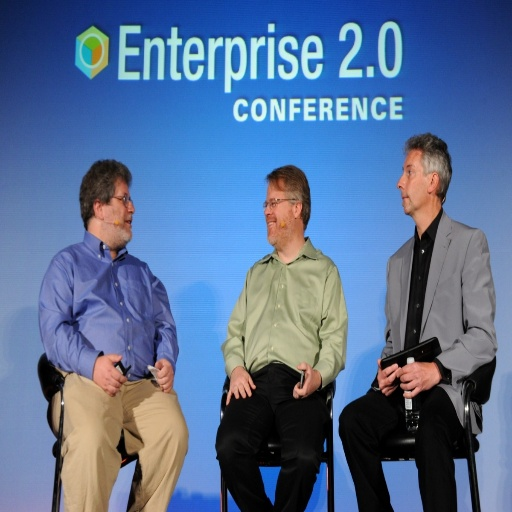hand: (386, 351, 446, 391), (93, 353, 129, 399), (224, 365, 256, 406), (291, 362, 317, 400), (153, 358, 174, 392)
